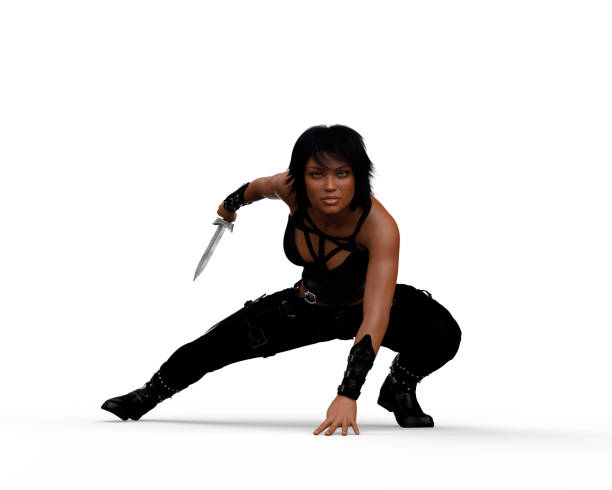knife: (190, 216, 236, 282)
